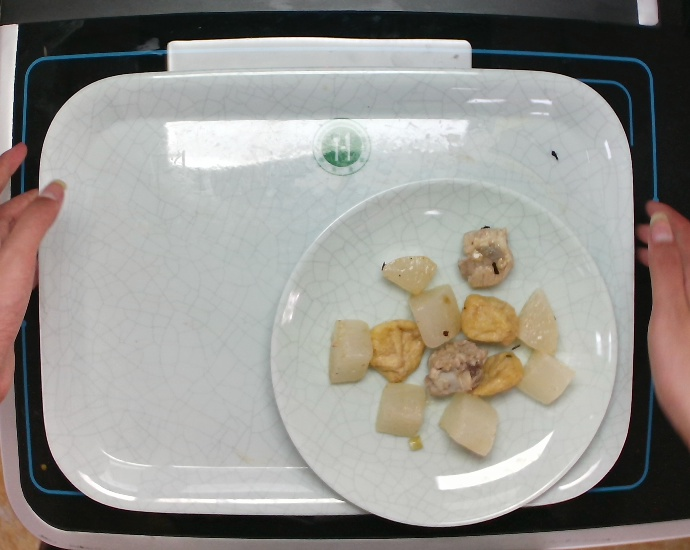JYsf-Da_Yuan_Pan: (264, 173, 626, 533)
